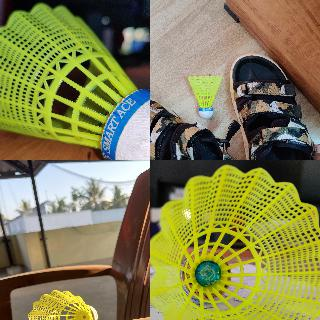shuttlecock: (150, 165, 319, 319), (0, 2, 149, 159), (27, 289, 97, 319), (185, 74, 223, 118)
